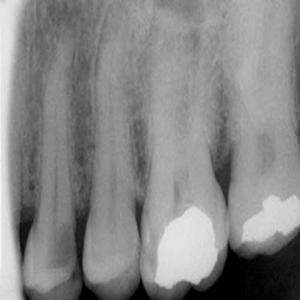tooth: (141, 4, 230, 297), (228, 4, 300, 263), (81, 30, 138, 300), (22, 17, 76, 300)
